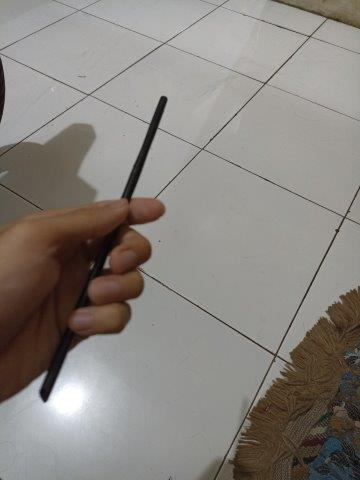sedotan: (41, 98, 167, 398)
